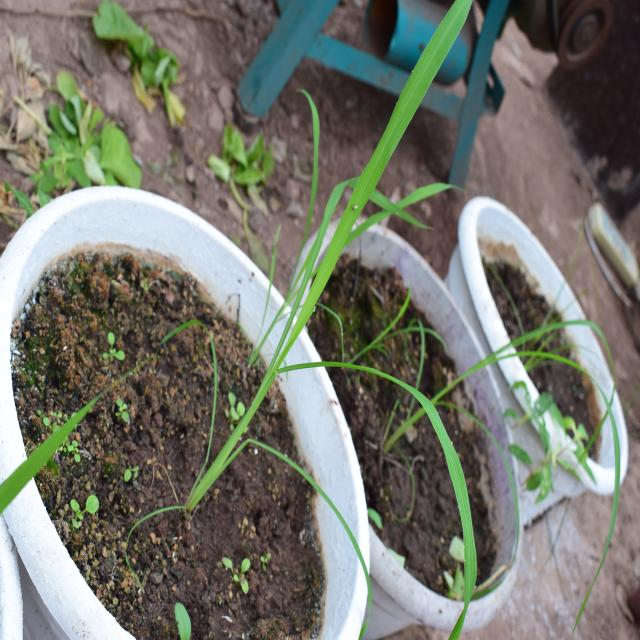barnyard_grass: (170, 22, 482, 551)
